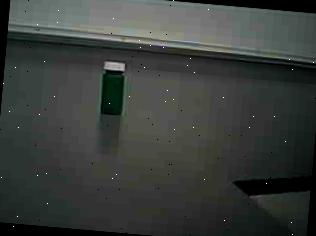Bottle C: (92, 58, 140, 128)
